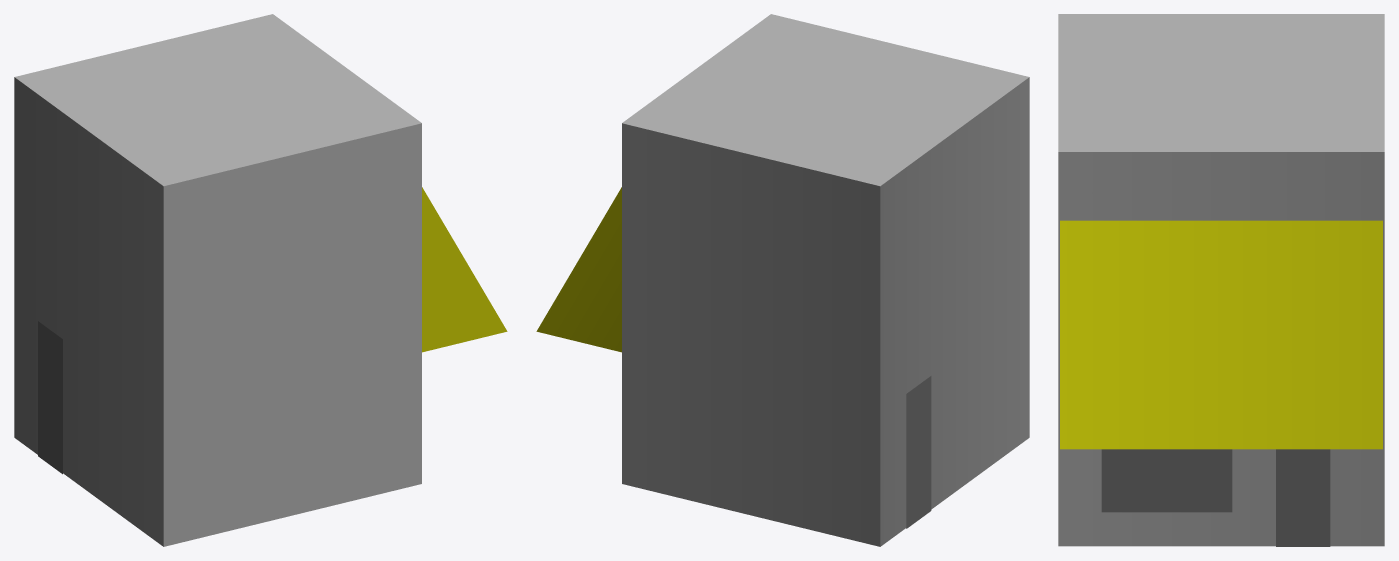
The model's file is strip-2-high.glb.
The picture shows the model from 3 angles, left to right: view 1: azimuth 30°, elevation 25°; view 2: azimuth 150°, elevation 25°; view 3: azimuth 270°, elevation 25°; orthographic projection. The views are drawn at different scales.
Visible parts, largest first — view 1: mesh0; view 2: mesh0; view 3: mesh0.
Boxes of the visible parts, left/top/right/bottom form: mesh0: left=14, top=14, right=507, bottom=546; mesh0: left=536, top=14, right=1029, bottom=546; mesh0: left=1058, top=14, right=1384, bottom=546.
Size of the model in its own units: 0.803 by 0.8 by 0.6.
